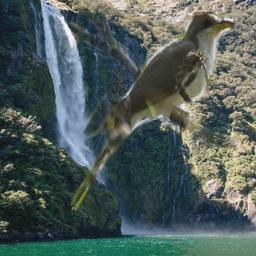Cuckoo: (71, 12, 235, 210)
